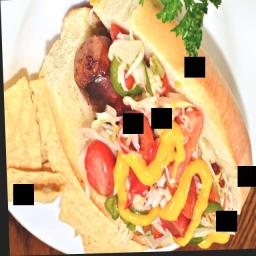hotdog: (15, 0, 250, 247)
